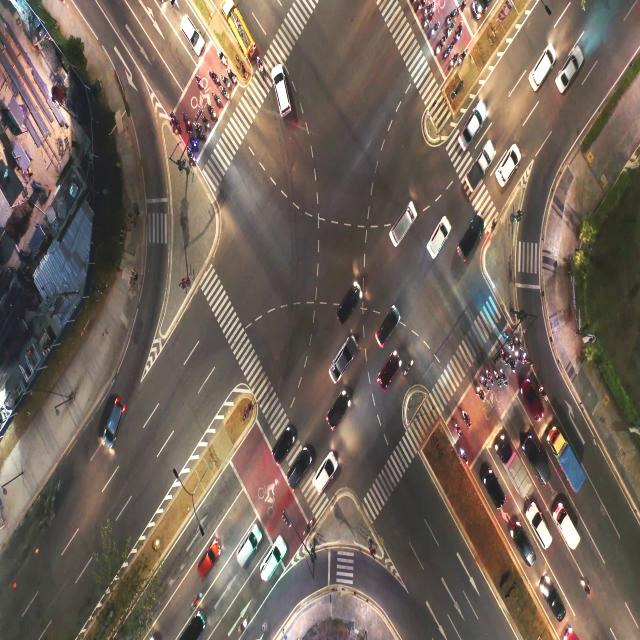bus: (233, 13, 251, 35)
car: (107, 396, 123, 441), (393, 209, 415, 241), (378, 318, 395, 352), (544, 585, 561, 619), (460, 227, 481, 254), (499, 152, 516, 185), (182, 16, 202, 44), (560, 56, 577, 86), (527, 515, 547, 540), (266, 546, 282, 576), (430, 226, 447, 254), (534, 60, 552, 86), (198, 549, 213, 580), (379, 358, 394, 389), (484, 472, 498, 503), (338, 345, 350, 380), (343, 290, 360, 314), (532, 451, 547, 478), (316, 465, 332, 490), (466, 112, 479, 142), (277, 69, 286, 111), (333, 400, 346, 429), (512, 530, 529, 552), (242, 533, 254, 562), (275, 441, 291, 462), (524, 388, 537, 410), (188, 620, 201, 640), (292, 464, 302, 486)
motorcycle: (405, 355, 414, 385), (190, 592, 203, 610), (303, 518, 315, 535), (194, 123, 205, 139), (238, 618, 249, 632), (180, 117, 192, 129), (426, 10, 434, 28), (168, 118, 180, 128), (432, 23, 440, 38), (257, 56, 263, 75), (460, 450, 468, 463), (207, 107, 216, 118), (229, 69, 235, 85), (416, 0, 424, 12), (542, 383, 548, 399), (523, 349, 529, 365), (195, 76, 202, 88), (220, 89, 227, 101), (450, 54, 456, 68), (448, 11, 454, 25), (455, 423, 461, 437), (476, 388, 482, 402), (496, 370, 500, 390), (446, 45, 452, 58), (438, 38, 444, 51), (426, 1, 432, 14), (449, 21, 454, 36), (501, 372, 506, 387), (188, 152, 196, 161), (223, 79, 231, 88), (188, 138, 198, 145), (211, 74, 216, 88), (457, 25, 462, 38), (222, 50, 226, 66), (482, 375, 486, 391), (511, 358, 515, 374), (460, 2, 466, 12), (488, 373, 493, 385), (502, 350, 507, 362), (516, 333, 521, 345), (215, 97, 222, 105), (464, 412, 468, 425), (202, 119, 210, 125), (508, 341, 512, 353), (461, 52, 466, 61), (517, 351, 520, 362)
truck: (510, 447, 529, 485), (468, 158, 489, 185), (562, 444, 576, 476), (562, 516, 574, 546)
